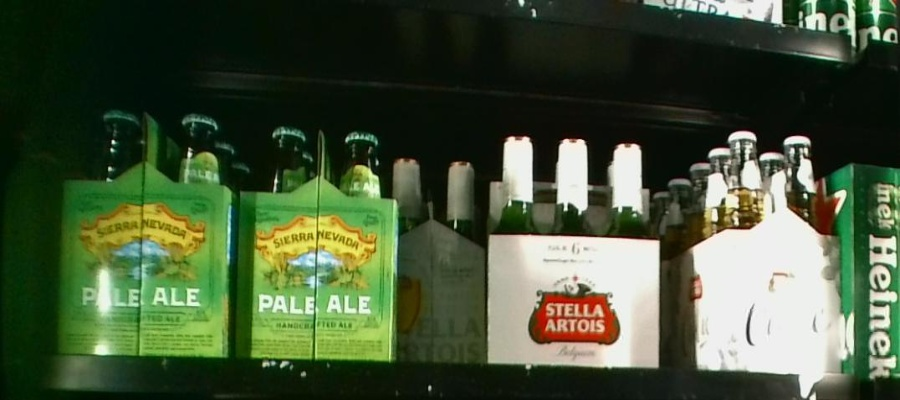bottle: (59, 109, 238, 360), (483, 136, 663, 367), (669, 132, 840, 374), (238, 115, 397, 365), (394, 153, 483, 365)
